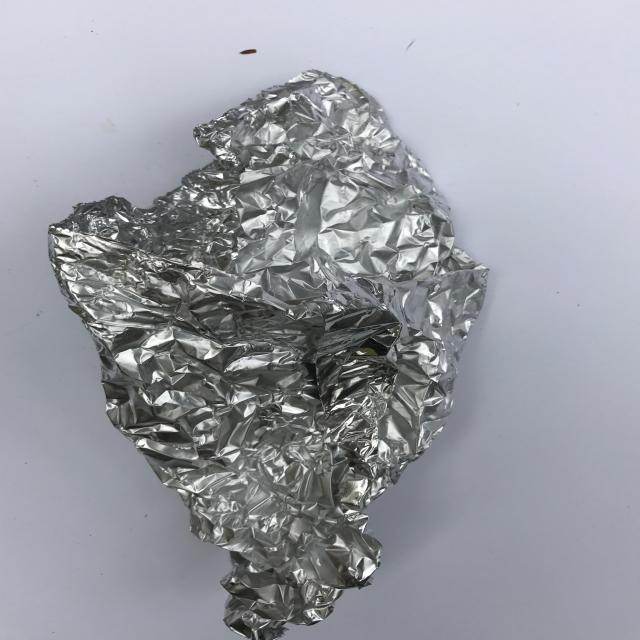metal: (46, 67, 490, 638)
